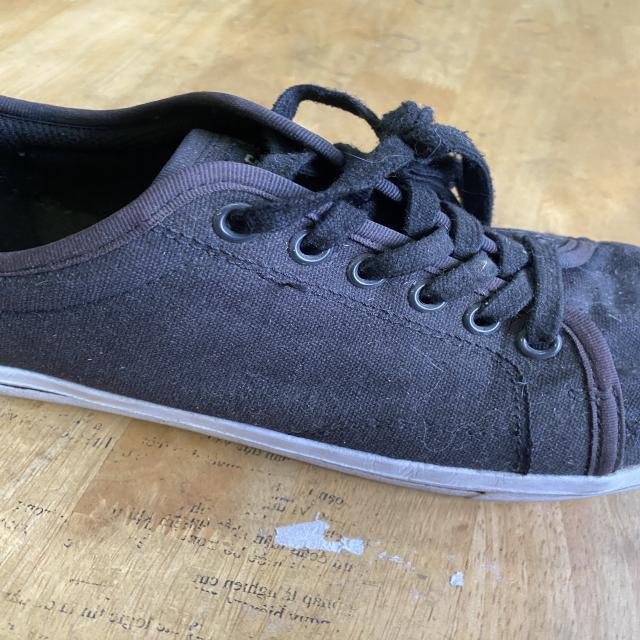broken-error: (267, 262, 320, 315)
